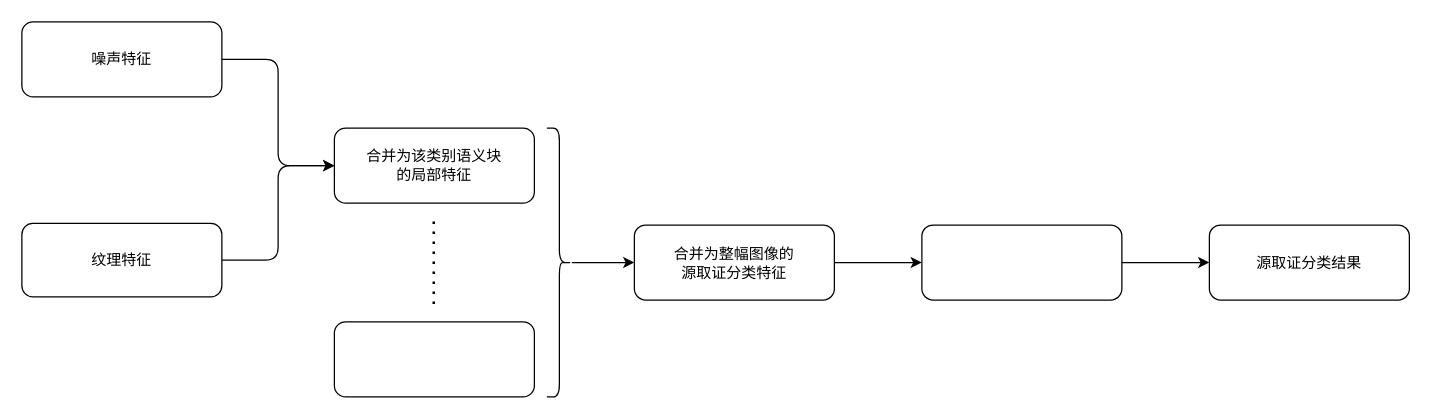
This 1431x419 diagram has some shape labels left out. Each missing label, with the box of its shape:
其他类别语义块的局部特征: (333, 321, 534, 397)
合适的分类模型: (921, 224, 1122, 300)
